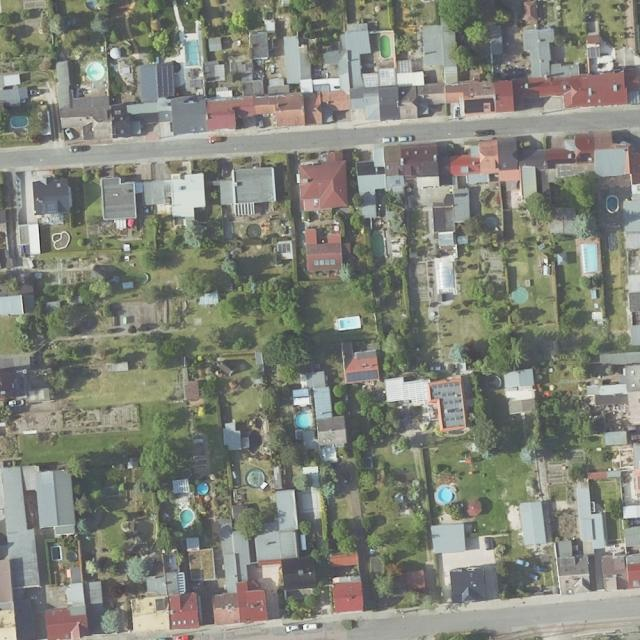PV: (345, 369, 378, 382), (430, 381, 459, 390), (430, 391, 454, 397), (441, 399, 461, 406), (444, 416, 461, 422)
